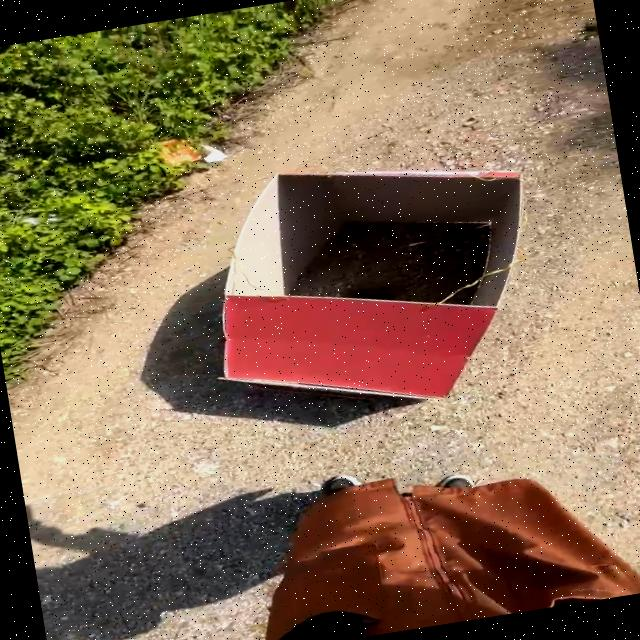red_car: (141, 115, 586, 461)
